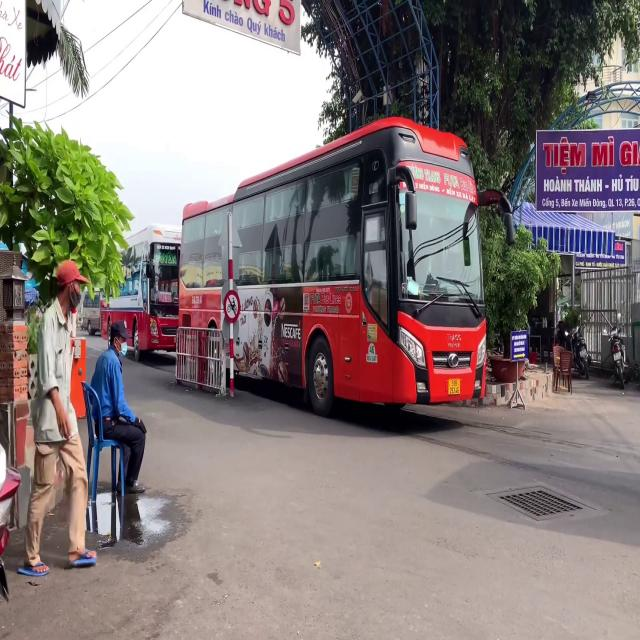bien_vang: (447, 376, 461, 396)
